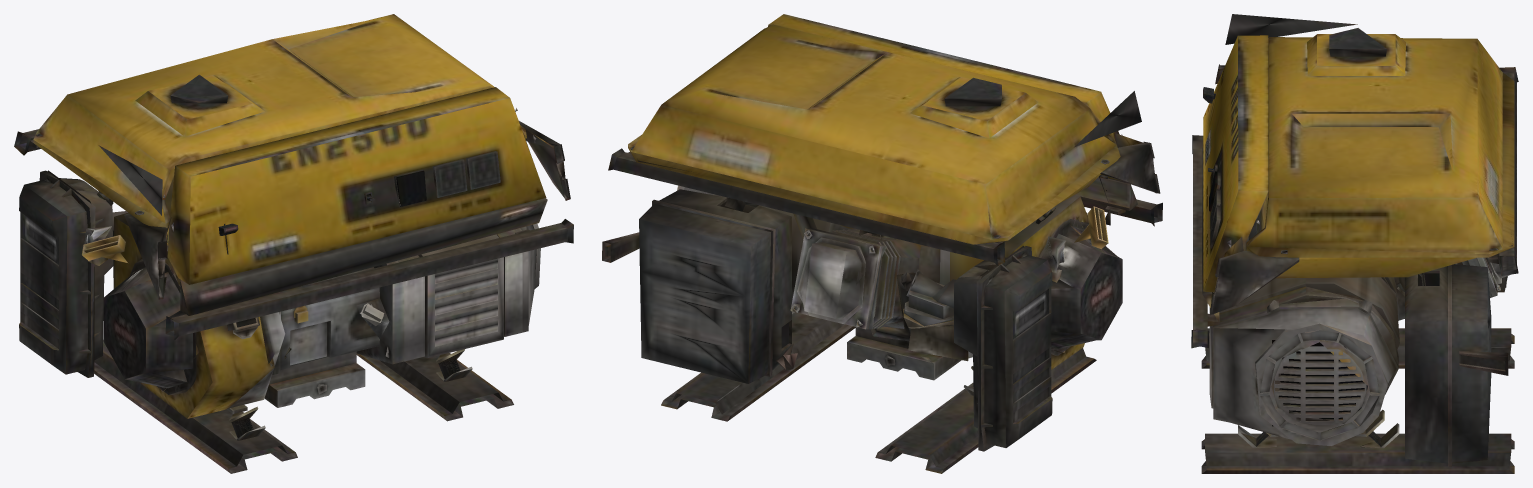
File: generator.glb
The picture shows the model from 3 angles, left to right: view 1: azimuth 30°, elevation 25°; view 2: azimuth 150°, elevation 25°; view 3: azimuth 270°, elevation 25°; orthographic projection.
Visible parts, largest first — view 1: portable_generator; view 2: portable_generator; view 3: portable_generator.
Part boxes in pixels (x1=…): portable_generator: x1=14, y1=14, x2=573, y2=473; portable_generator: x1=602, y1=14, x2=1162, y2=473; portable_generator: x1=1191, y1=14, x2=1518, y2=473.
Bounding box in the file's own units: 0.8086 × 0.5747 × 0.5382.
Materials: 1 (1 with a texture image).
